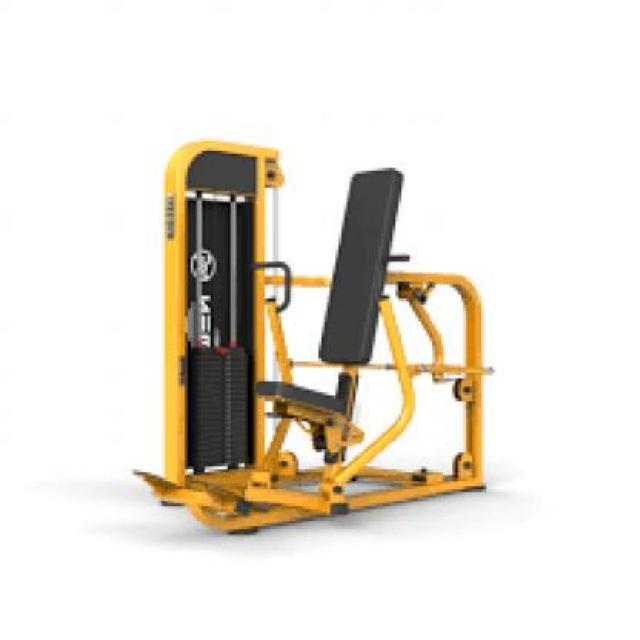Chest Press machine: (126, 131, 511, 543)
